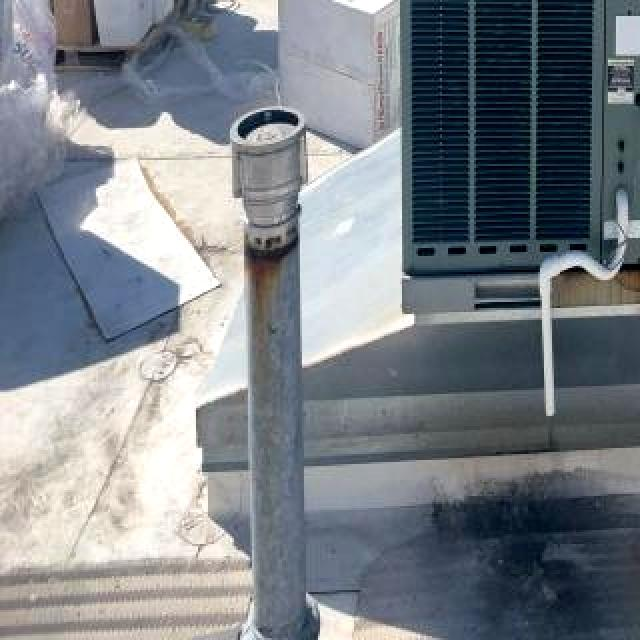GRAVITY-VENT: (212, 98, 328, 640)
RTU: (366, 0, 640, 312)
